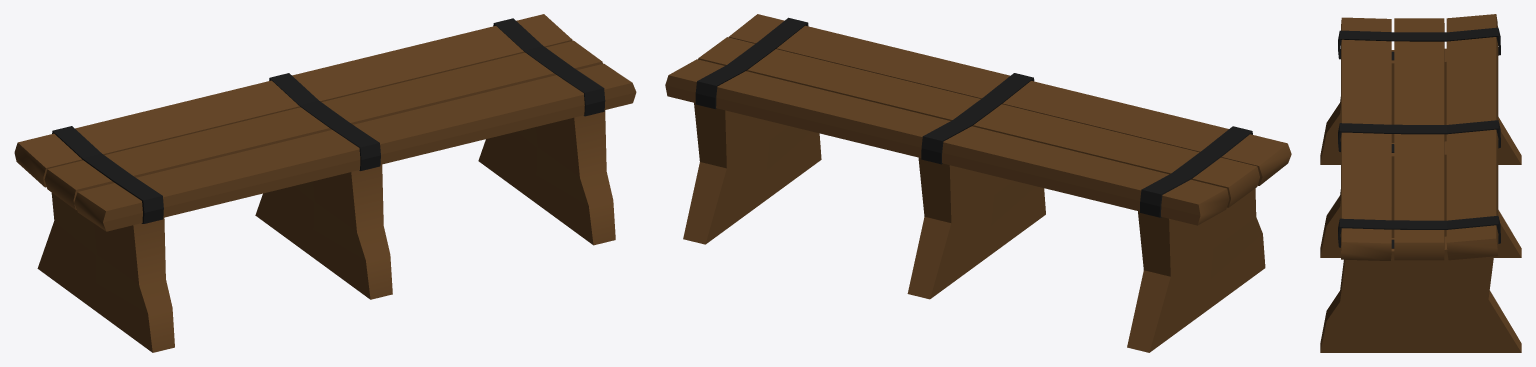
File: bench.fbx
3 renders of one model, left to right at view 1: azimuth 30°, elevation 25°; view 2: azimuth 150°, elevation 25°; view 3: azimuth 270°, elevation 25°, orthographic. The views are drawn at different scales.
Visible parts, largest first — view 1: Bench; view 2: Bench; view 3: Bench.
Part boxes in pixels (x1,y1,x2,y2): Bench: (14,14,636,352); Bench: (665,14,1291,352); Bench: (1320,14,1521,352).
Size of the model in its own units: 314 by 82.93 by 118.
